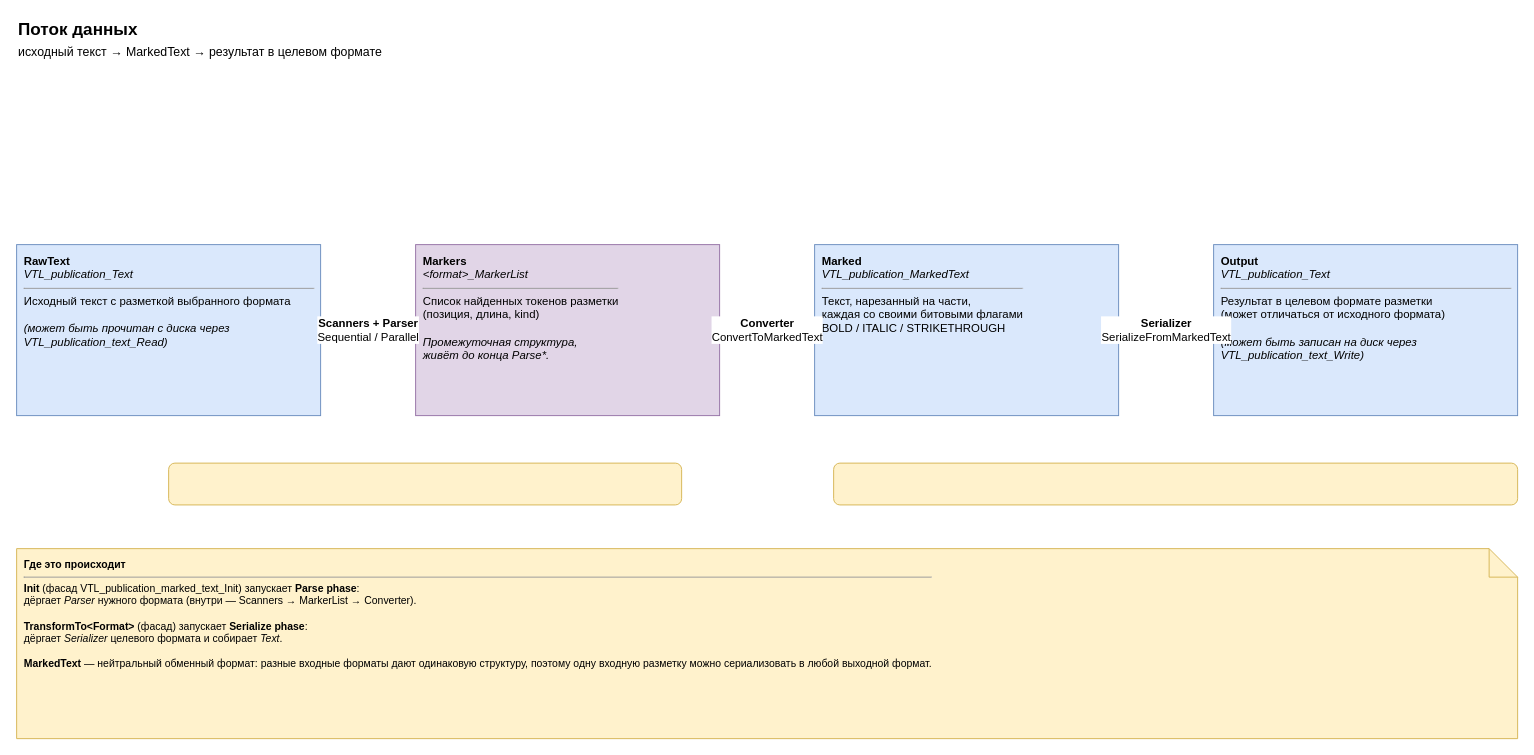
Image size: 1534x755. Some labels were removed from this diagram. Each missing label, with the box of its shape:
Parse phase может быть параллельной: (168, 462, 682, 505)
Serialize phase всегда один поток (memcpy-bound): (833, 462, 1518, 505)
